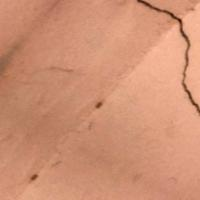crack: (141, 0, 199, 126)
